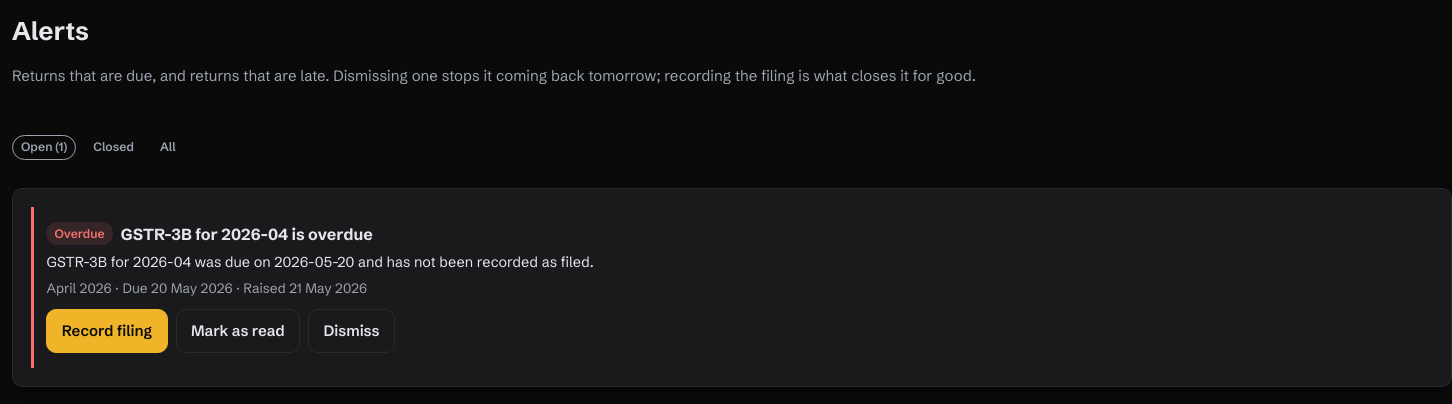
Test: AlertsPage › does not leave one tab's alerts under another tab
Expected: the heading "GSTR-3B for 2026-04 is overdue" is shown, left=121, top=222, right=373, bottom=246
Click the button "Closed" at (114, 147), box left=84, top=135, right=143, bottom=160
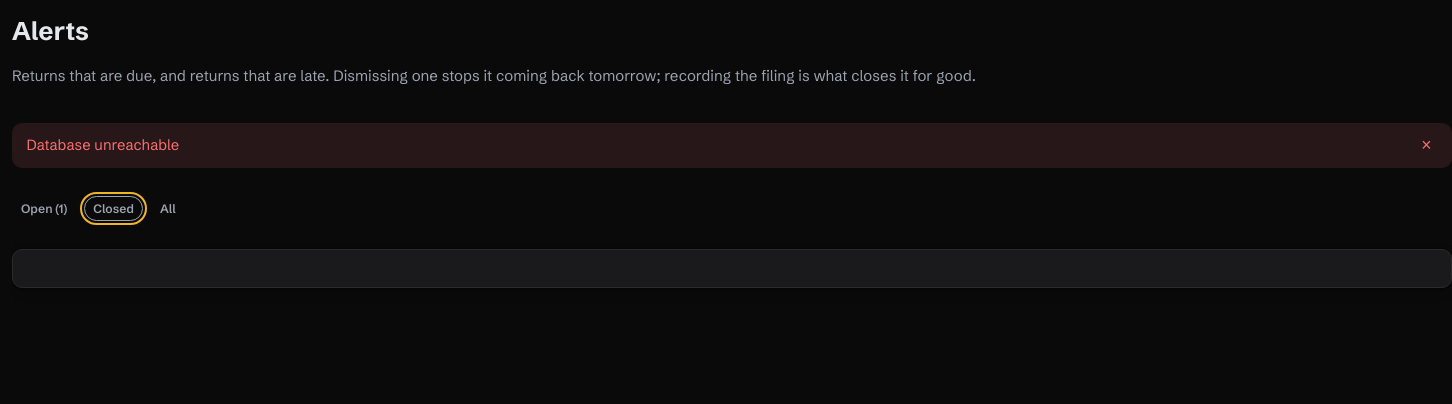
Now the message shows "Database unreachable", box left=26, top=136, right=179, bottom=154
Now the heading "GSTR-3B for 2026-04 is overdue" is gone
